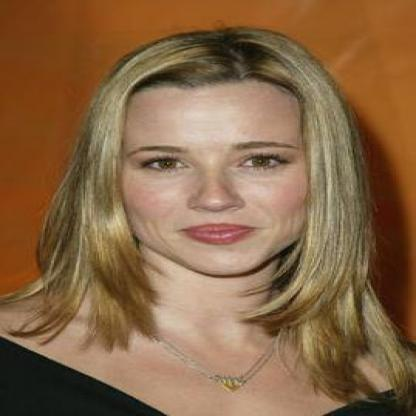long-hair: (6, 276, 405, 340)
